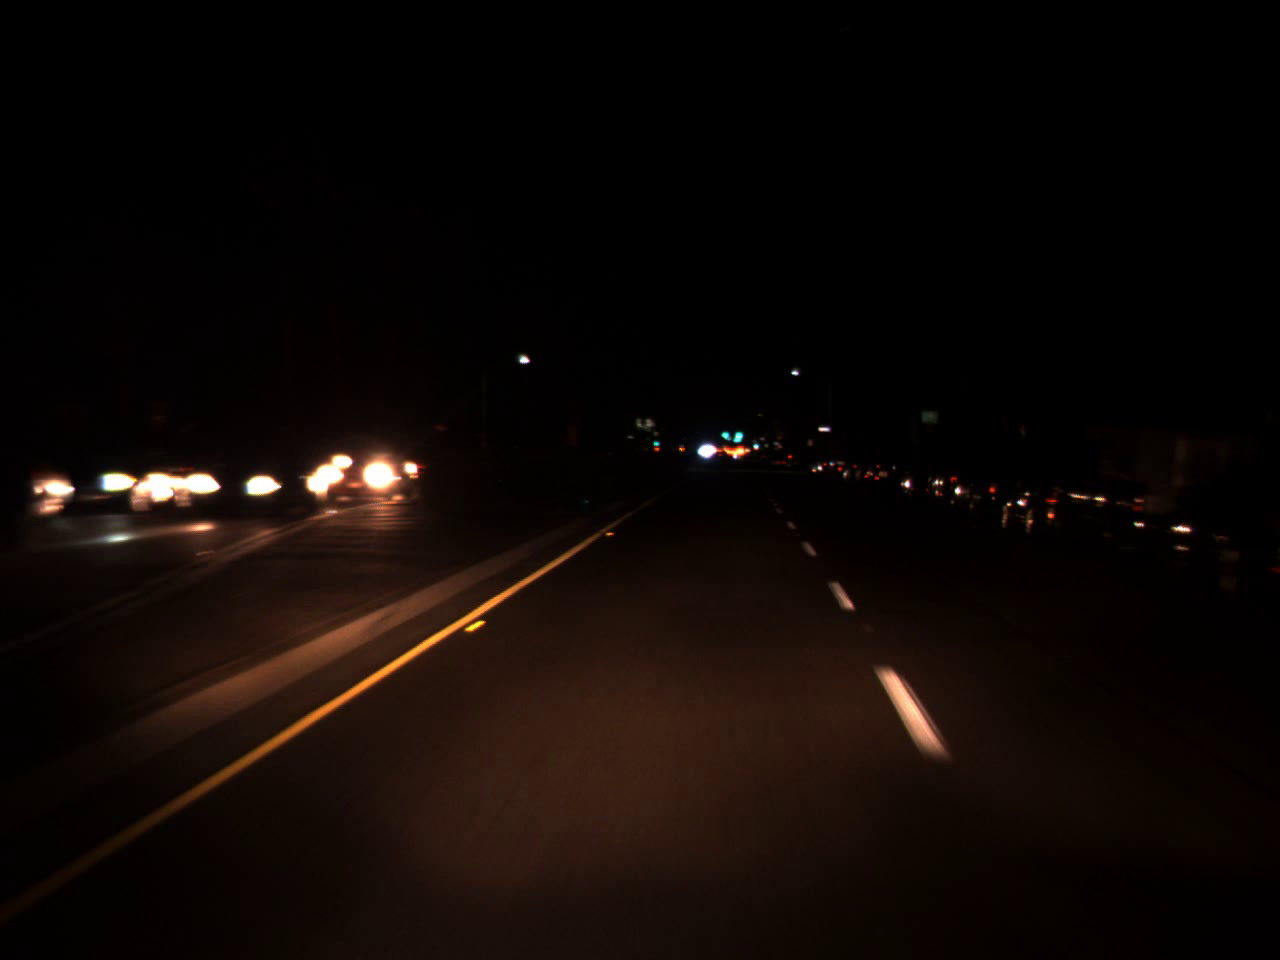go: (729, 419, 745, 441), (717, 419, 731, 441), (648, 431, 662, 449), (748, 435, 762, 450)
